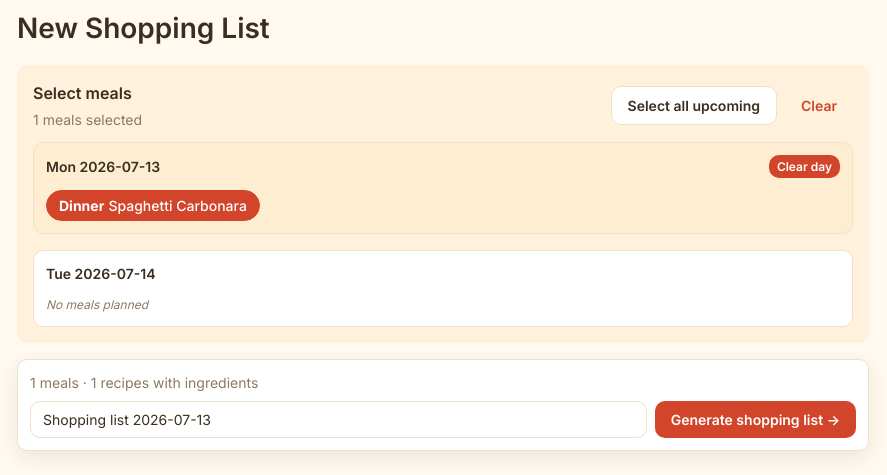
Test: ShoppingListNewView › clicking a meal chip toggles its entry in the selection, reflected in the summary count
The width and height of the screenshot is (887, 475).
Click the button with class "toggle-chip": x=153, y=206 [46, 190, 260, 221]
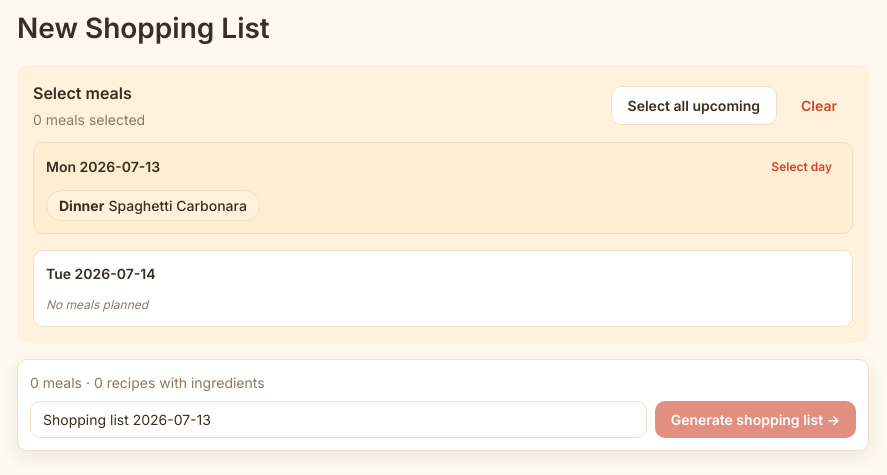
Expected: the text "0 meals selected" is shown, [33, 109, 145, 130]
Click the button with class "toggle-chip": x=153, y=206 [46, 190, 260, 221]
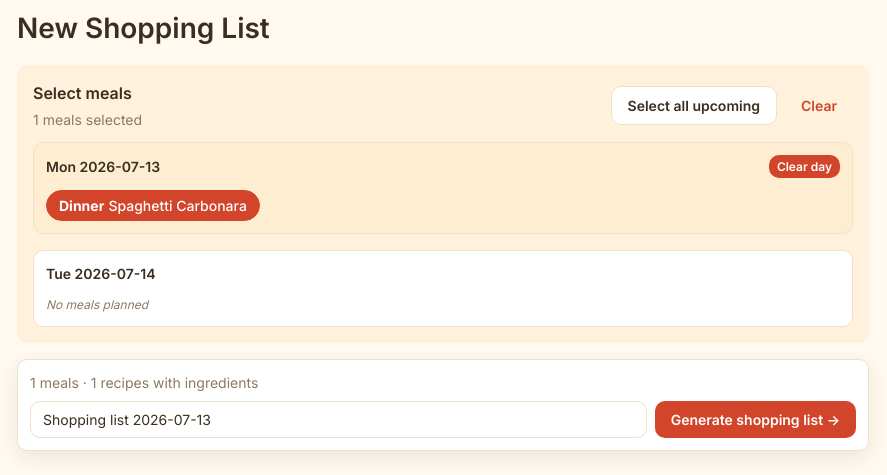
Expected: the text "1 meals selected" is shown, [33, 109, 142, 130]
